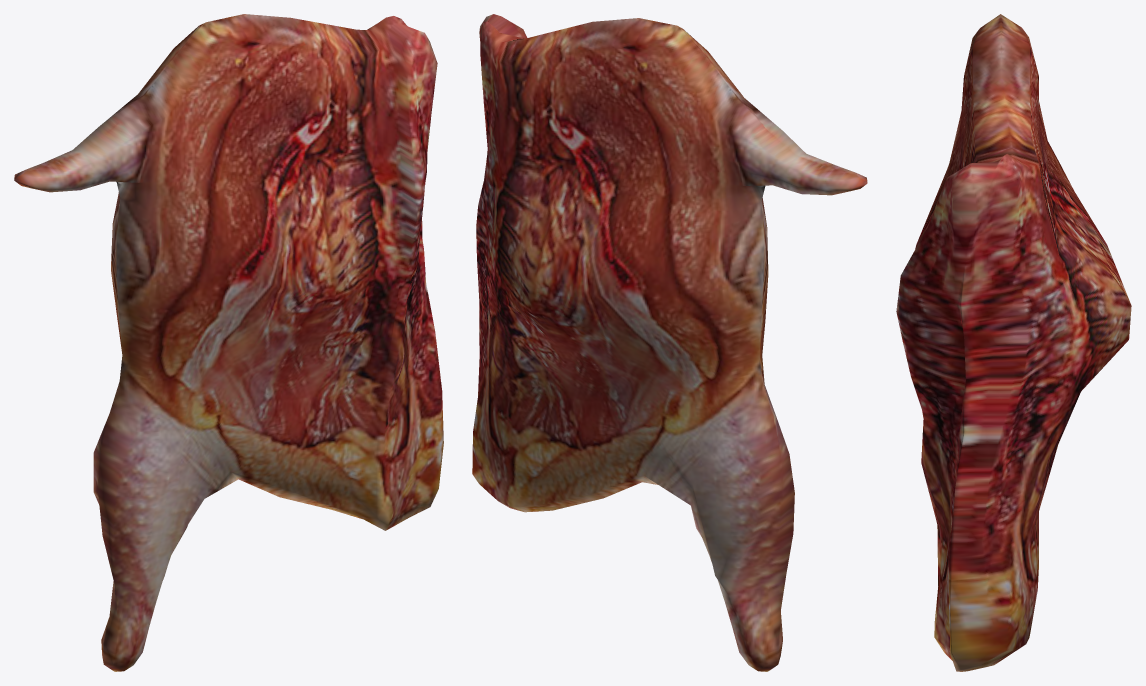
Rendered from giblets_5.fbx.
3 renders of one model, left to right at view 1: azimuth 30°, elevation 25°; view 2: azimuth 150°, elevation 25°; view 3: azimuth 270°, elevation 25°, orthographic. The views are drawn at different scales.
Parts seen in each view (by area): view 1: giblets_05; view 2: giblets_05; view 3: giblets_05.
Part boxes in pixels (box(x1,y1,x2,y2)): giblets_05: box(14, 14, 443, 671); giblets_05: box(472, 14, 867, 671); giblets_05: box(896, 14, 1131, 671).
Size of the model in its own units: 21.75 by 32.16 by 10.27.
